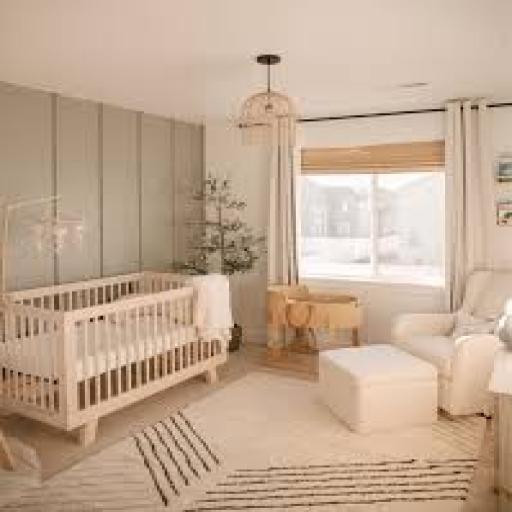crib: (0, 274, 226, 443)
